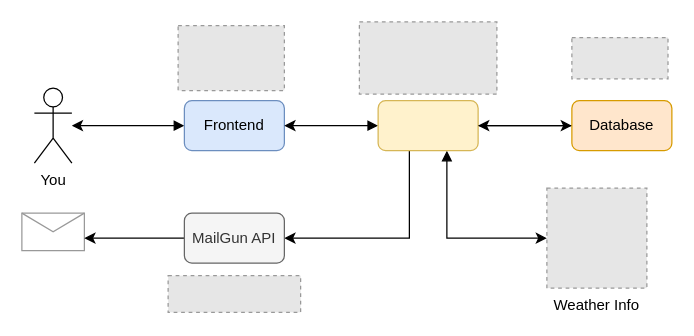
Image size: 694x336. Some labels were removed from this diagram. Grey dashed boxes stand in for pictures. Each missing label, with the centre of its shape:
"Backend" belongs at point 427,125.
"Inbox" belongs at point 52,231.
